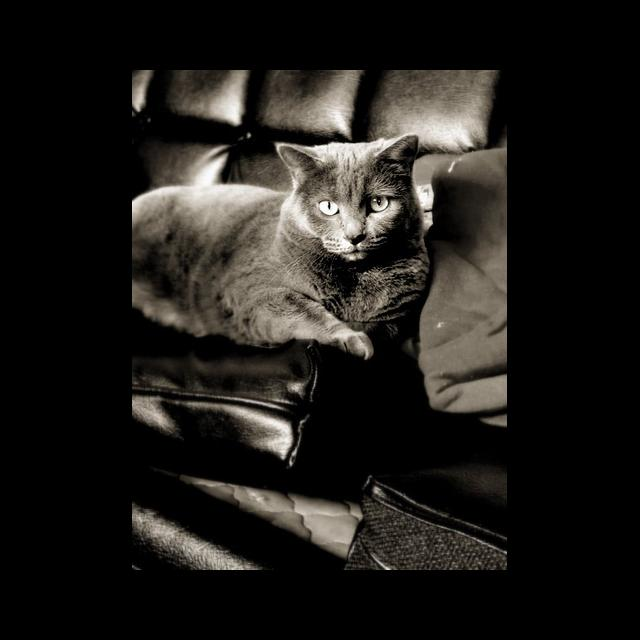animals: (276, 135, 416, 242)
